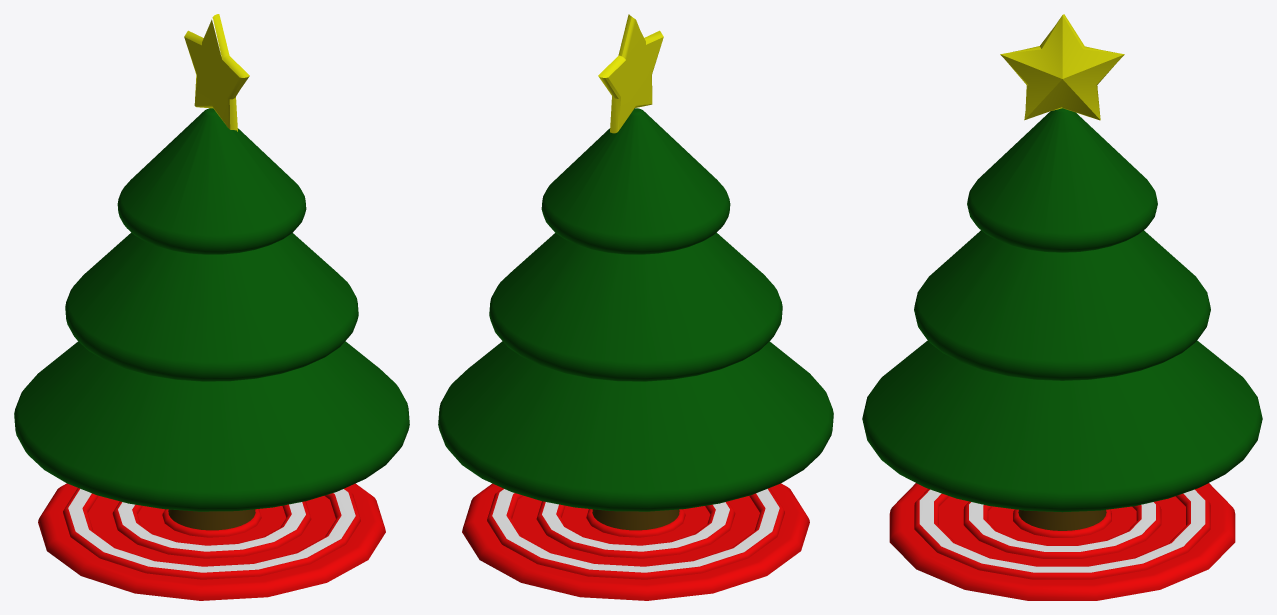
The model's file is Xmas Tree.glb.
The picture shows the model from 3 angles, left to right: view 1: azimuth 30°, elevation 25°; view 2: azimuth 150°, elevation 25°; view 3: azimuth 270°, elevation 25°; orthographic projection.
Visible parts, largest first — view 1: pCylinder1, pDisc1, pDisc2; view 2: pCylinder1, pDisc1, pDisc2; view 3: pCylinder1, pDisc1, pDisc2.
Boxes of the visible parts, x1,y1,x2,y2 form: pCylinder1: (14, 108, 409, 530); pDisc1: (38, 483, 385, 600); pDisc2: (184, 14, 249, 131); pCylinder1: (438, 108, 833, 530); pDisc1: (462, 483, 809, 600); pDisc2: (598, 14, 663, 133); pCylinder1: (862, 108, 1262, 530); pDisc1: (889, 483, 1235, 600); pDisc2: (1000, 14, 1124, 120).
Size of the model in its own units: 0.0299 by 0.0426 by 0.0299.
